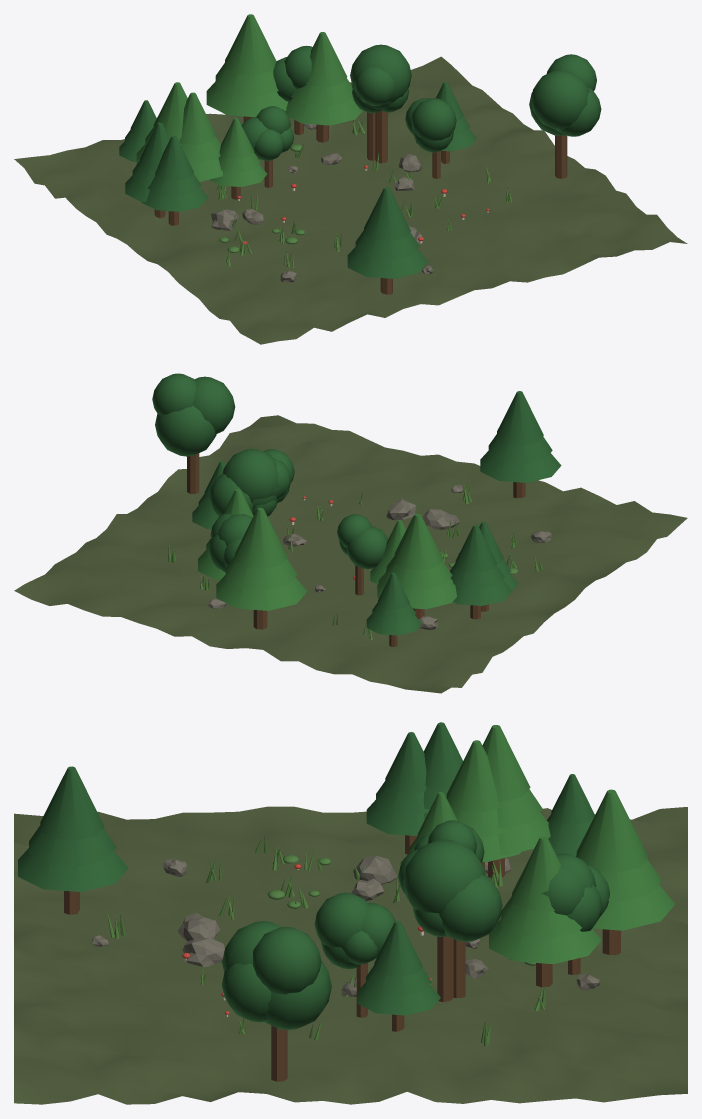
Rendered from loc_forest.glb.
3 renders of one model, top to bottom at view 1: azimuth 30°, elevation 25°; view 2: azimuth 150°, elevation 25°; view 3: azimuth 270°, elevation 25°, orthographic. The views are drawn at different scales.
Visible parts, largest first — view 1: Fo_Ground, Fo_Bro6_C0, Fo_Con11_L2, Fo_Bro9_C1, Fo_Con10_L2, Fo_Con11_L0, Fo_Con10_L0, Fo_Bro0_C3, Fo_Con7_L0, Fo_Con7_L2, Fo_Con11_L1, Fo_Con13_L2 (+22 smaller); view 2: Fo_Ground, Fo_Bro6_C2, Fo_Bro9_C1, Fo_Con11_L2, Fo_Con11_L0, Fo_Con5_L2, Fo_Bro6_C0, Fo_Con10_L2, Fo_Con10_L0, Fo_Con11_L1, Fo_Bro6_C3, Fo_Bro12_C1 (+14 smaller); view 3: Fo_Ground, Fo_Bro9_C1, Fo_Bro6_C3, Fo_Con11_L2, Fo_Con10_L2, Fo_Con7_L0, Fo_Bro15_C0, Fo_Con10_L0, Fo_Con13_L2, Fo_Bro6_C2, Fo_Con10_L1, Fo_Con7_L2 (+33 smaller).
Part boxes in pixels (left/top/right/bottom): Fo_Ground: left=14, top=56, right=687, bottom=344; Fo_Bro6_C0: left=531, top=70, right=589, bottom=129; Fo_Con11_L2: left=225, top=14, right=276, bottom=75; Fo_Bro9_C1: left=350, top=44, right=411, bottom=103; Fo_Con10_L2: left=364, top=187, right=410, bottom=241; Fo_Con11_L0: left=206, top=81, right=287, bottom=116; Fo_Con10_L0: left=347, top=247, right=428, bottom=278; Fo_Bro0_C3: left=411, top=98, right=456, bottom=140; Fo_Con7_L0: left=285, top=97, right=362, bottom=125; Fo_Con7_L2: left=306, top=32, right=347, bottom=87; Fo_Con11_L1: left=215, top=63, right=278, bottom=96; Fo_Con13_L2: left=179, top=92, right=216, bottom=145; Fo_Ground: left=14, top=415, right=687, bottom=693; Fo_Bro6_C2: left=155, top=405, right=216, bottom=456; Fo_Bro9_C1: left=222, top=449, right=278, bottom=502; Fo_Con11_L2: left=235, top=507, right=287, bottom=568; Fo_Con11_L0: left=216, top=575, right=307, bottom=610; Fo_Con5_L2: left=394, top=514, right=443, bottom=570; Fo_Bro6_C0: left=193, top=376, right=235, bottom=434; Fo_Con10_L2: left=497, top=391, right=543, bottom=445; Fo_Con10_L0: left=480, top=451, right=561, bottom=482; Fo_Con11_L1: left=225, top=556, right=297, bottom=589; Fo_Bro6_C3: left=152, top=373, right=196, bottom=415; Fo_Bro12_C1: left=346, top=526, right=387, bottom=569; Fo_Ground: left=14, top=806, right=687, bottom=1104; Fo_Bro9_C1: left=402, top=839, right=485, bottom=913; Fo_Bro6_C3: left=253, top=927, right=321, bottom=994; Fo_Con11_L2: left=576, top=789, right=648, bottom=872; Fo_Con10_L2: left=40, top=766, right=104, bottom=840; Fo_Con7_L0: left=489, top=919, right=601, bottom=964; Fo_Bro15_C0: left=439, top=875, right=502, bottom=941; Fo_Con10_L0: left=18, top=848, right=128, bottom=891; Fo_Con13_L2: left=446, top=740, right=500, bottom=812; Fo_Bro6_C2: left=264, top=961, right=331, bottom=1029; Fo_Con10_L1: left=29, top=825, right=116, bottom=866; Fo_Con7_L2: left=512, top=836, right=561, bottom=911.
Bounding box in the file's own units: 20.25 × 5.62 × 20.
